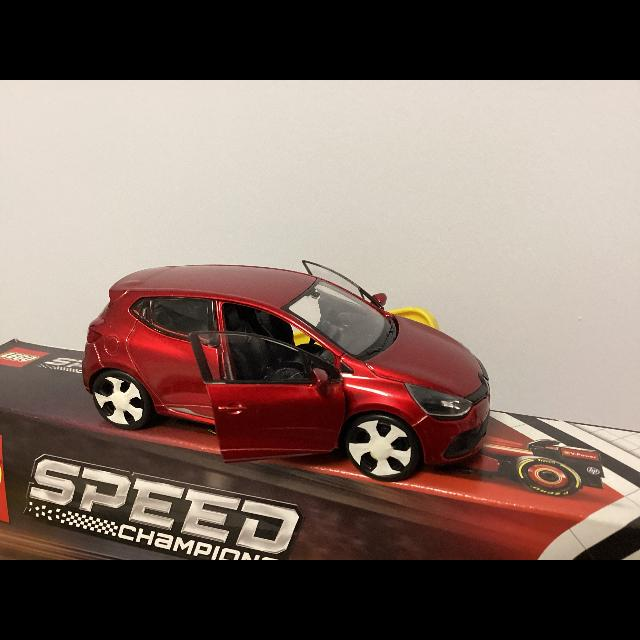Yanlis_Jant: (349, 419, 411, 476), (94, 376, 144, 426)
